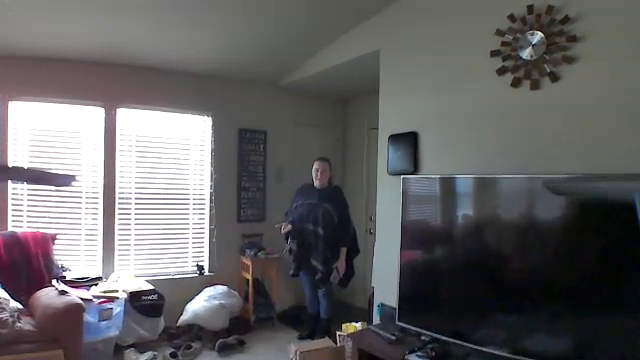land: (275, 221, 295, 235)
